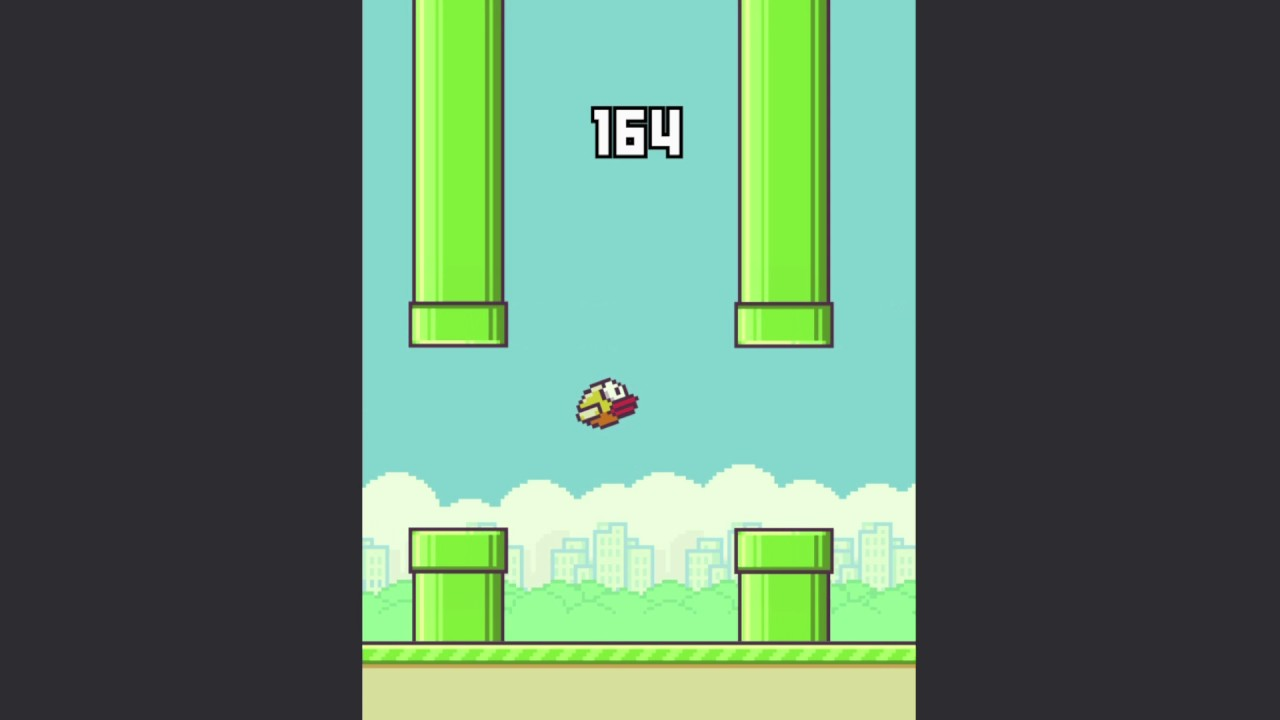flappybird: (569, 375, 647, 439)
green-pipe-down: (406, 1, 517, 350), (729, 523, 841, 640), (408, 529, 515, 642)
green-pipe-up: (411, 1, 515, 350), (733, 1, 834, 348)
